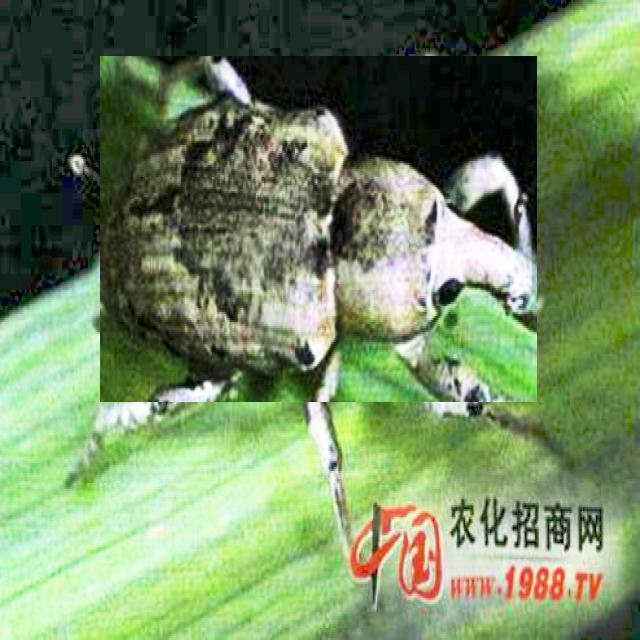rice-bug: (100, 56, 537, 402)
